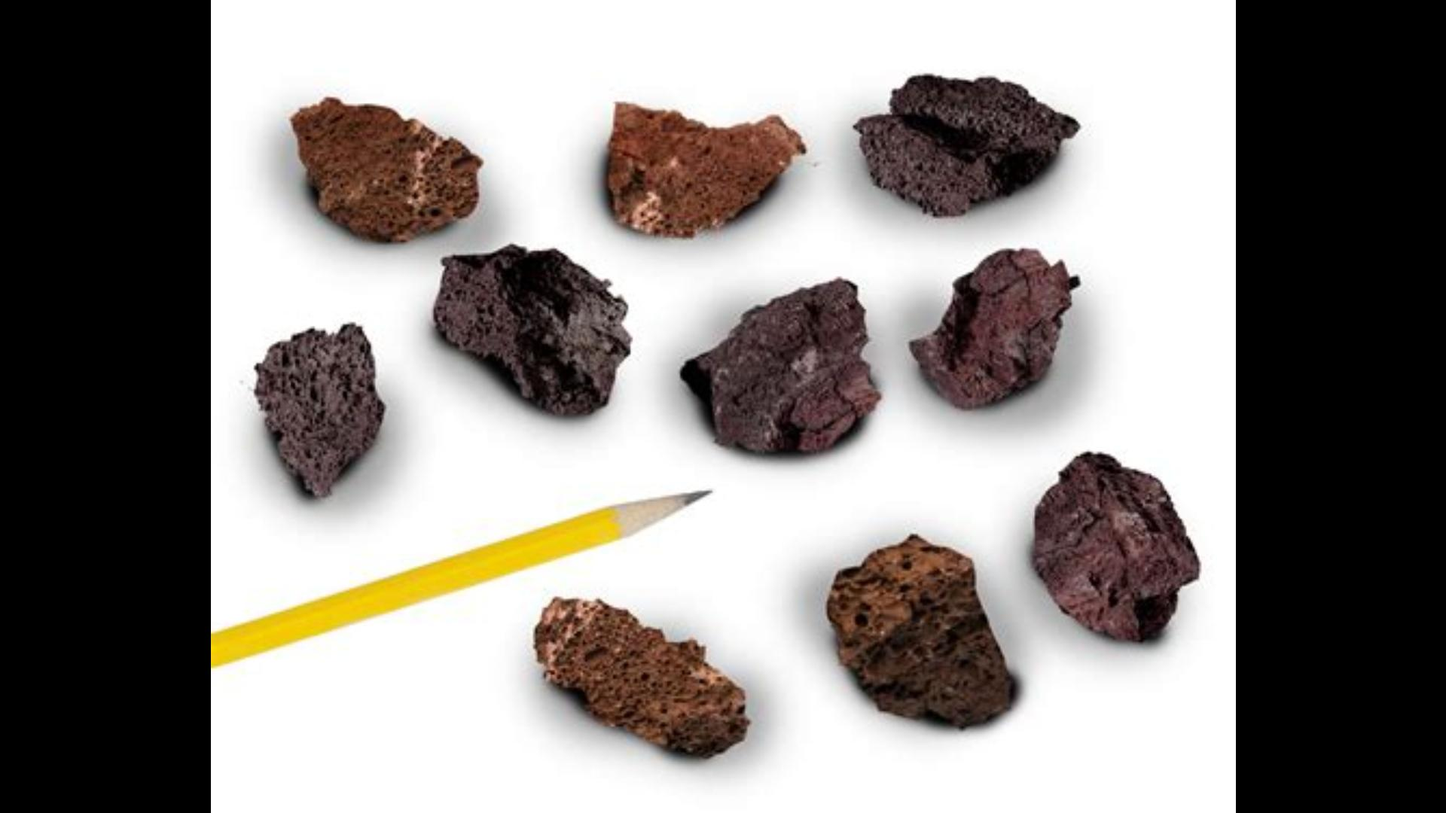rock: (678, 279, 880, 456), (828, 534, 1011, 724), (534, 600, 742, 756), (435, 246, 630, 411), (1033, 454, 1203, 638), (857, 76, 1075, 214), (289, 97, 481, 241), (606, 104, 803, 234), (913, 252, 1071, 404), (256, 322, 386, 498)
